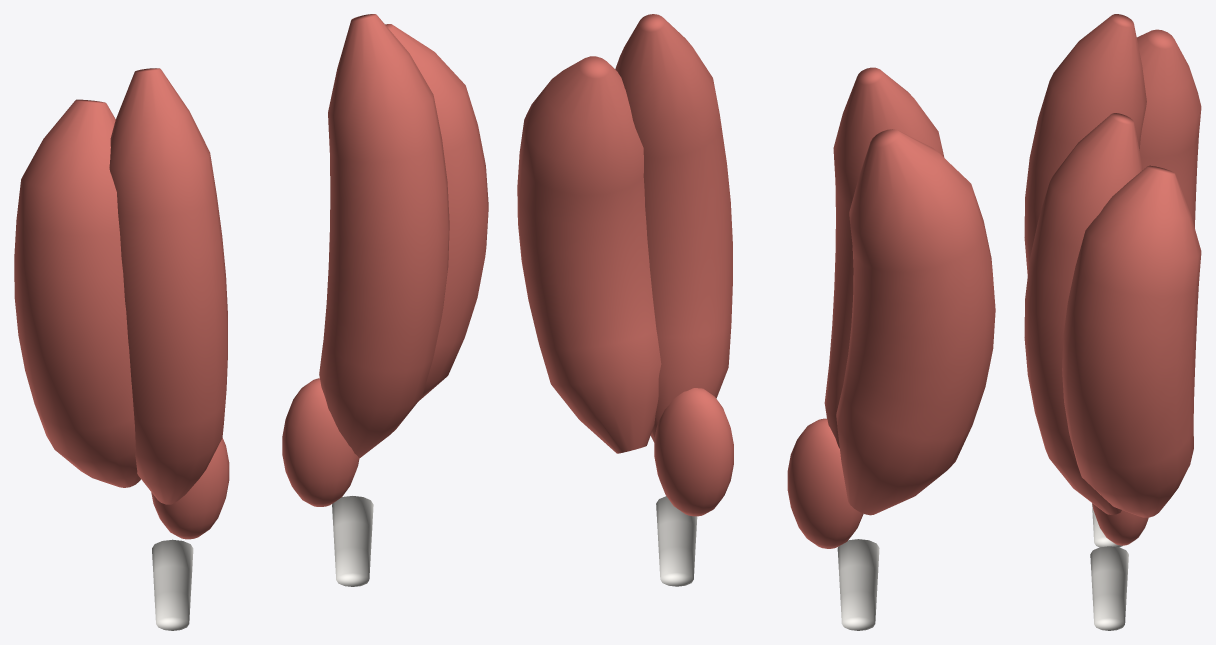
The model's file is quadriceps_femoris.glb.
The picture shows the model from 3 angles, left to right: view 1: azimuth 30°, elevation 25°; view 2: azimuth 150°, elevation 25°; view 3: azimuth 270°, elevation 25°; orthographic projection. The views are drawn at different scales.
Visible parts, largest first — view 1: muscle_rectus_femoris_r, muscle_rectus_femoris_l, muscle_vastus_lateralis_l, muscle_vastus_lateralis_r, muscle_vastus_medialis_r, muscle_vastus_medialis_l, tendon_patellar_l, tendon_patellar_r; view 2: muscle_vastus_lateralis_l, muscle_vastus_lateralis_r, muscle_rectus_femoris_r, muscle_rectus_femoris_l, muscle_vastus_medialis_r, muscle_vastus_medialis_l, tendon_patellar_l, tendon_patellar_r; view 3: muscle_vastus_lateralis_r, muscle_rectus_femoris_r, muscle_rectus_femoris_l, muscle_vastus_lateralis_l, tendon_patellar_r, muscle_vastus_medialis_r, tendon_patellar_l.
Boxes of the visible parts, <box> form: muscle_rectus_femoris_r: <box>319,14,449,458</box>; muscle_rectus_femoris_l: <box>109,68,227,504</box>; muscle_vastus_lateralis_l: <box>14,99,140,487</box>; muscle_vastus_lateralis_r: <box>385,24,488,401</box>; muscle_vastus_medialis_r: <box>282,378,359,506</box>; muscle_vastus_medialis_l: <box>151,438,229,539</box>; tendon_patellar_l: <box>152,539,193,630</box>; tendon_patellar_r: <box>332,496,373,586</box>; muscle_vastus_lateralis_l: <box>836,129,995,515</box>; muscle_vastus_lateralis_r: <box>517,56,661,453</box>; muscle_rectus_femoris_r: <box>615,14,732,442</box>; muscle_rectus_femoris_l: <box>824,67,944,448</box>; muscle_vastus_medialis_r: <box>654,388,733,516</box>; muscle_vastus_medialis_l: <box>787,418,863,548</box>; tendon_patellar_l: <box>837,539,879,630</box>; tendon_patellar_r: <box>656,496,697,586</box>; muscle_vastus_lateralis_r: <box>1062,165,1201,517</box>; muscle_rectus_femoris_r: <box>1024,113,1142,514</box>; muscle_rectus_femoris_l: <box>1024,14,1146,275</box>; muscle_vastus_lateralis_l: <box>1136,29,1201,227</box>; tendon_patellar_r: <box>1090,546,1128,630</box>; muscle_vastus_medialis_r: <box>1092,503,1148,545</box>; tendon_patellar_l: <box>1092,503,1122,547</box>.
Bounding box in the file's own units: 0.3799 × 0.443 × 0.1374.
